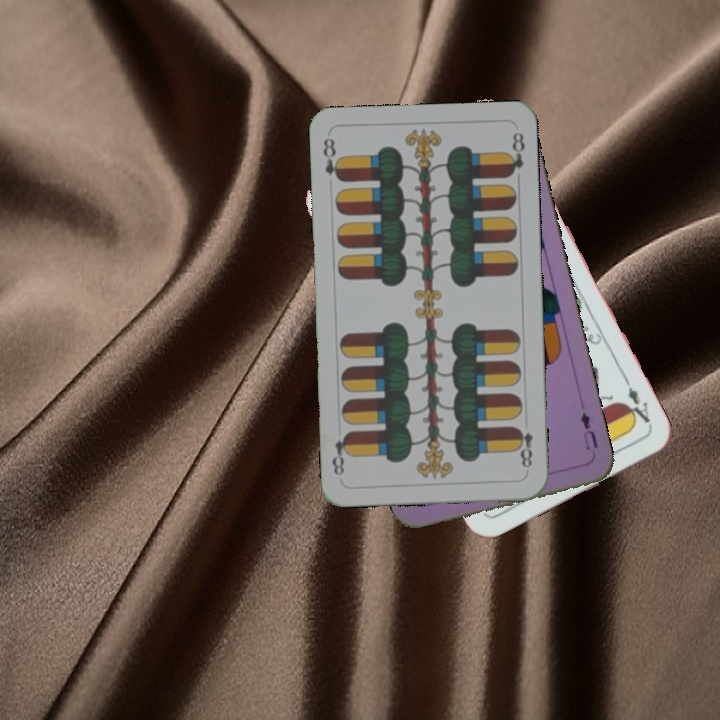E8: (318, 134, 345, 185), (512, 423, 535, 471)
EA: (621, 383, 655, 430)
EU: (576, 407, 600, 453)
